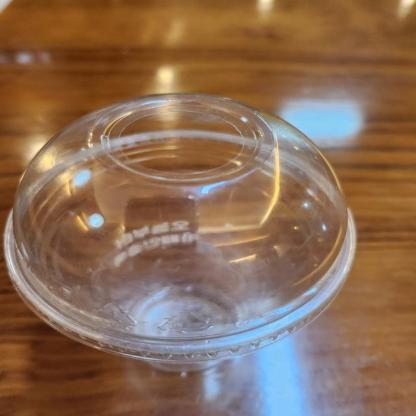Plastic Cup: (0, 92, 364, 372)
